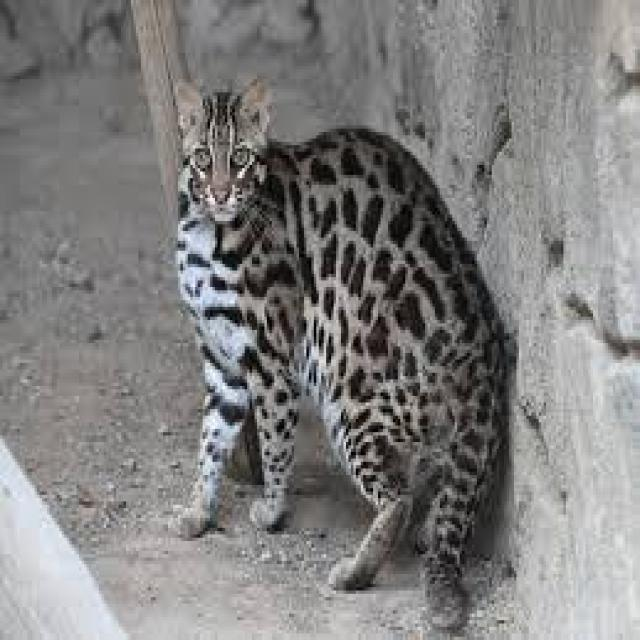leopard: (145, 44, 479, 566)
